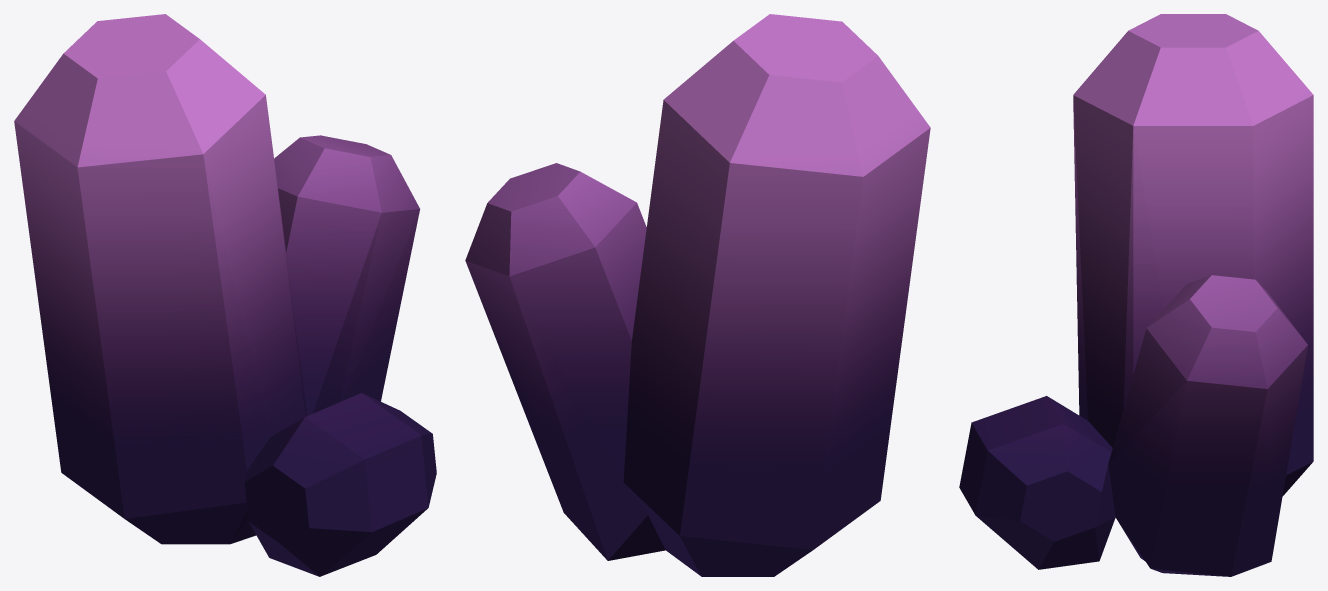
The model's file is Crystal_3.fbx.
3 renders of one model, left to right at view 1: azimuth 30°, elevation 25°; view 2: azimuth 150°, elevation 25°; view 3: azimuth 270°, elevation 25°, orthographic. The views are drawn at different scales.
Parts seen in each view (by area): view 1: Crystal_01; view 2: Crystal_01; view 3: Crystal_01.
Boxes of the visible parts, <box> form: Crystal_01: <box>14,14,436,576</box>; Crystal_01: <box>465,14,930,576</box>; Crystal_01: <box>959,14,1313,576</box>.
Bounding box in the file's own units: 28.39 × 36.26 × 24.75.
